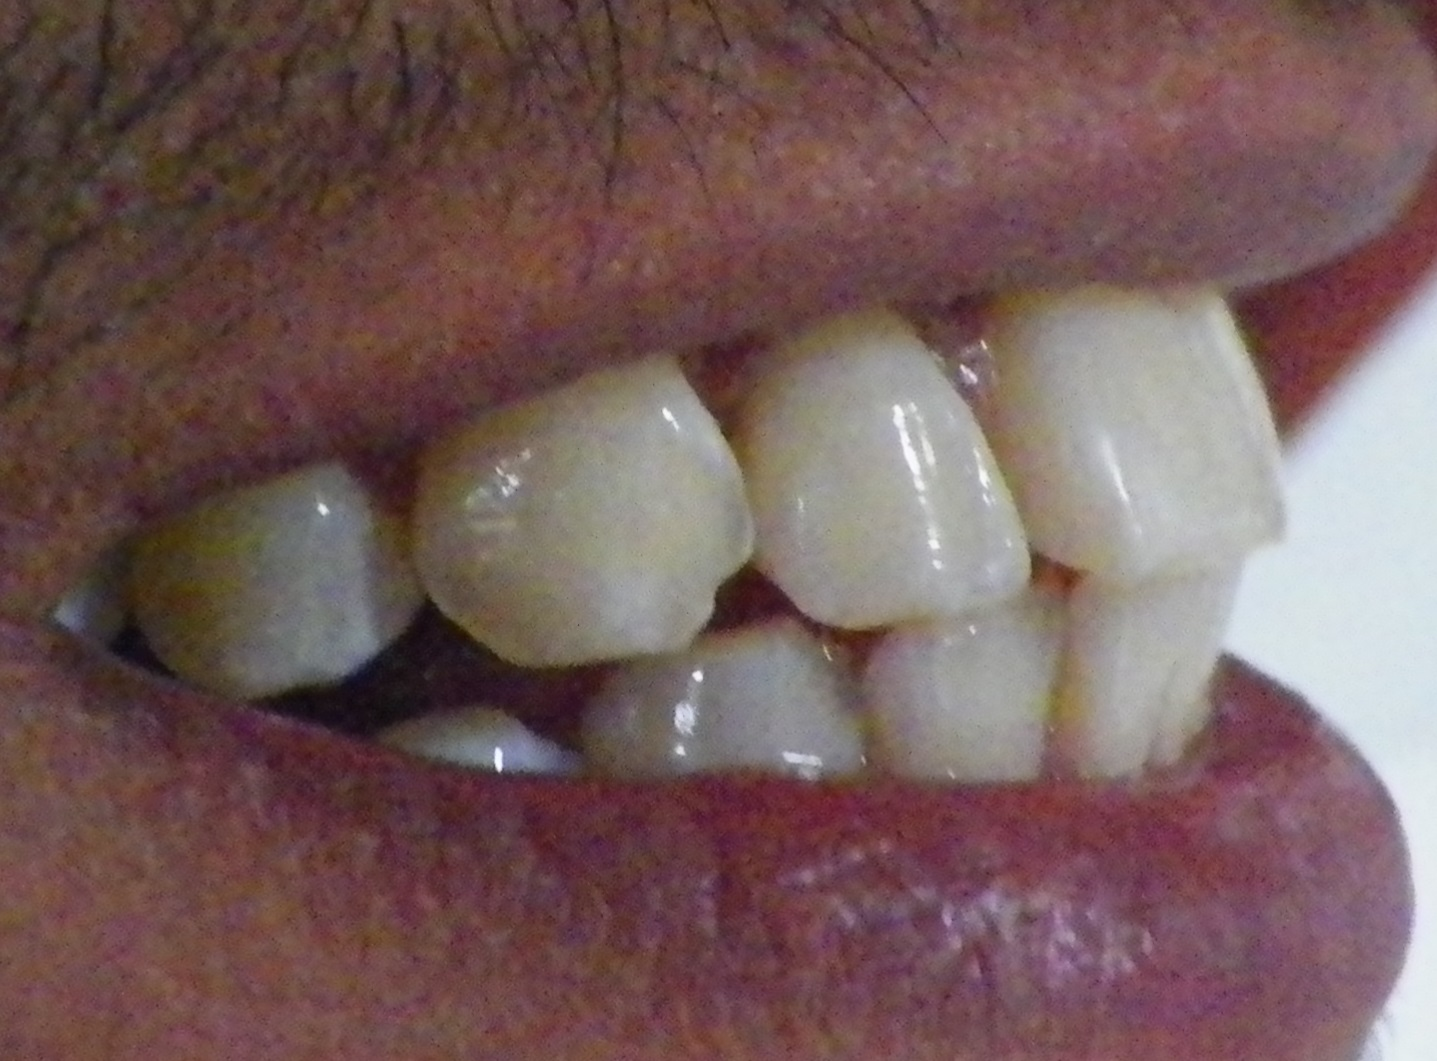boca: (146, 287, 1272, 787)
